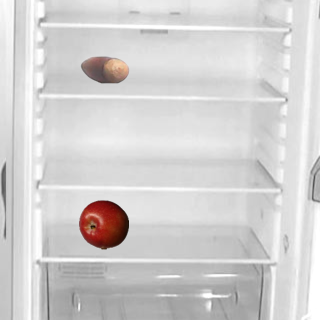Apple Braeburn: (78, 199, 128, 249)
Hazelnut: (79, 44, 129, 94)
